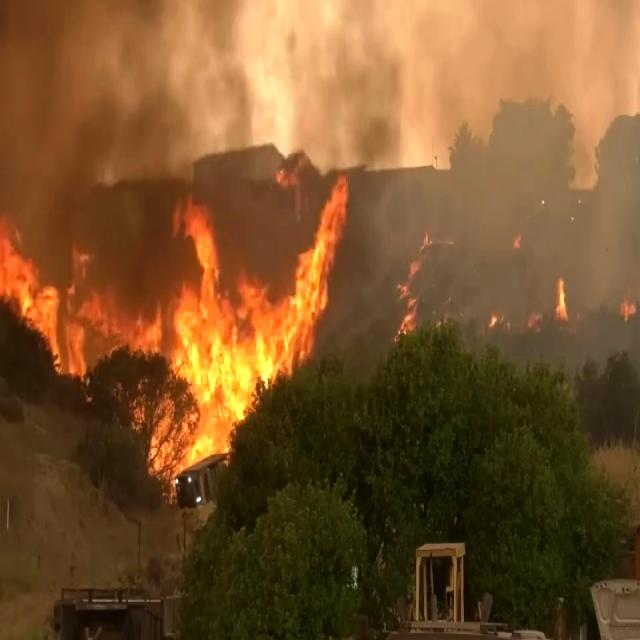fire: (146, 174, 322, 486), (0, 146, 70, 320)
